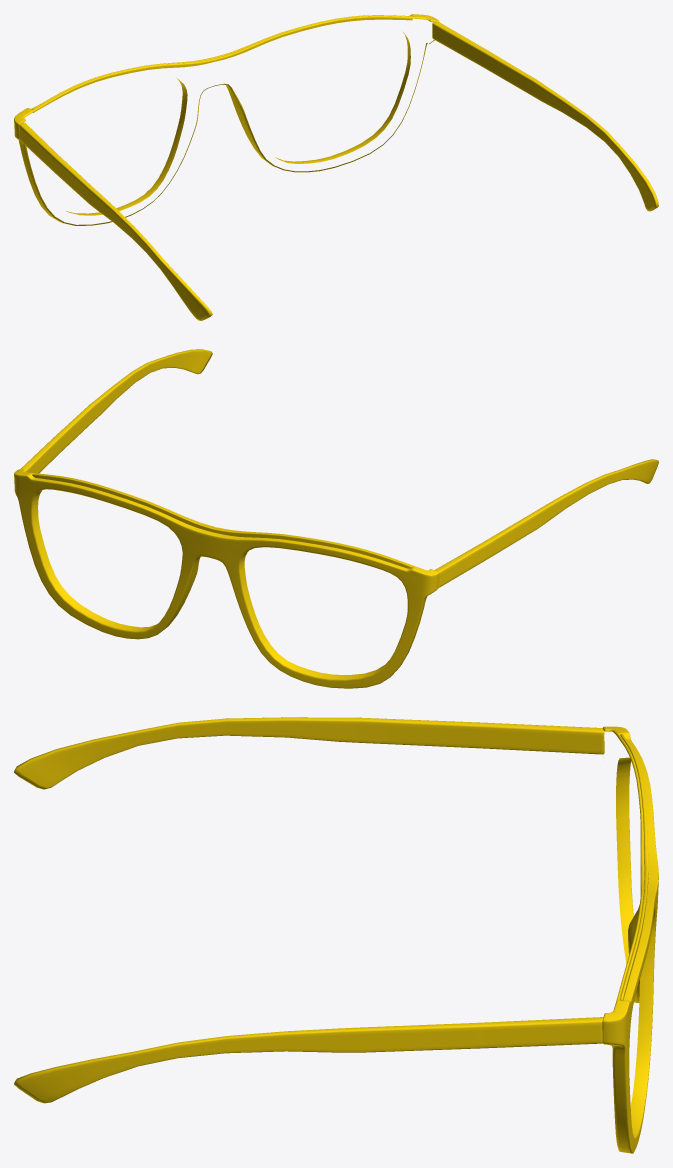
File: Yellowglasses.gltf
3 views of the same model, one above another, from view 1: azimuth 30°, elevation 25°; view 2: azimuth 150°, elevation 25°; view 3: azimuth 270°, elevation 25° (orthographic). The views are drawn at different scales.
Visible parts, largest first — view 1: am_body; view 2: am_body; view 3: am_body.
Boxes of the visible parts, box(x1,y1,x2,y2) form: am_body: box(14, 14, 658, 320); am_body: box(14, 349, 658, 688); am_body: box(14, 717, 658, 1153).
Size of the model in its own units: 1.63 by 0.4904 by 1.37.
